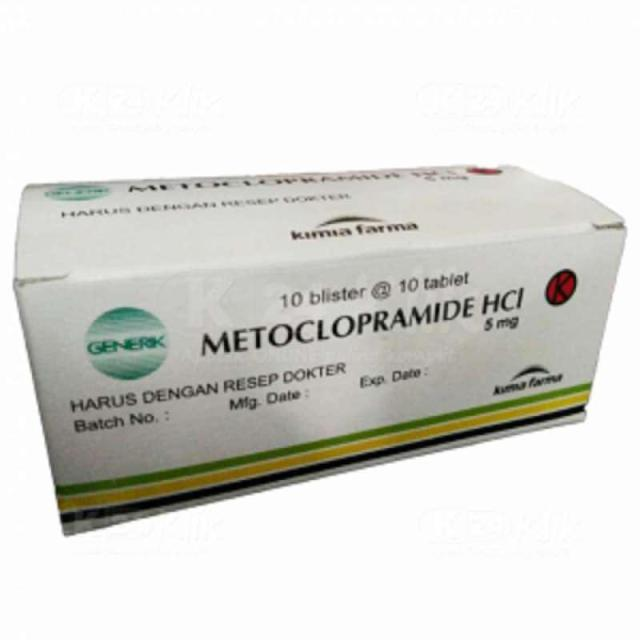drug-name: (192, 288, 477, 365)
